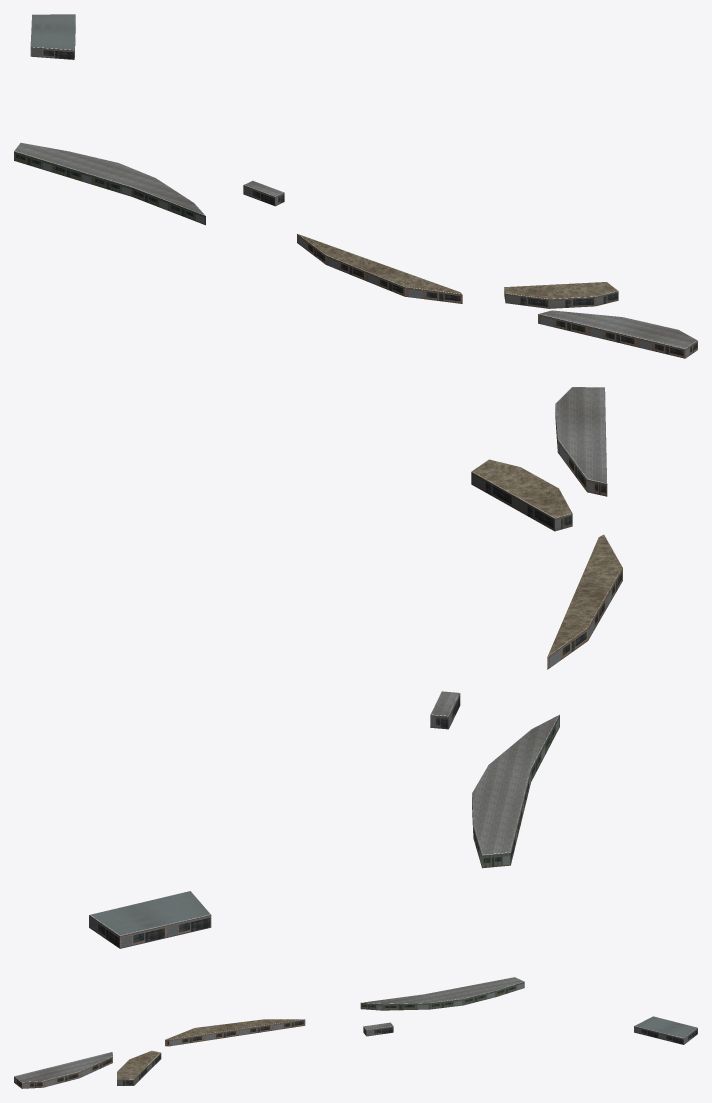
3 renders of one model, top to bottom at view 1: azimuth 30°, elevation 25°; view 2: azimuth 150°, elevation 25°; view 3: azimuth 270°, elevation 25°, orthographic. The views are drawn at different scales.
Parts seen in each view (by area): view 1: SlateRoof, BrickArcade, ConcreteRoof, Workshop, ZincRoof, RibbedFront, PanelArcade; view 2: SlateRoof, ConcreteRoof, ZincRoof, PanelArcade, BrickArcade, RibbedFront, Workshop; view 3: SlateRoof, BrickArcade, ConcreteRoof, Workshop, ZincRoof, PanelArcade, RibbedFront.
Part boxes in pixels (box(x1,y1,x2,y2)): SlateRoof: box(14, 143, 697, 349); BrickArcade: box(297, 234, 697, 358); ConcreteRoof: box(298, 234, 618, 299); Workshop: box(14, 151, 205, 225); ZincRoof: box(30, 14, 75, 50); RibbedFront: box(504, 287, 618, 308); PanelArcade: box(30, 25, 284, 206); SlateRoof: box(430, 387, 607, 855); ConcreteRoof: box(471, 459, 622, 656); ZincRoof: box(89, 891, 210, 936); PanelArcade: box(89, 693, 460, 948); BrickArcade: box(547, 407, 622, 669); RibbedFront: box(471, 472, 572, 531); Workshop: box(472, 715, 559, 868); SlateRoof: box(14, 977, 524, 1082); BrickArcade: box(14, 1019, 305, 1088); ConcreteRoof: box(117, 1019, 303, 1079); Workshop: box(360, 982, 524, 1010); ZincRoof: box(634, 1016, 697, 1038); PanelArcade: box(363, 1026, 697, 1044); RibbedFront: box(117, 1053, 161, 1085).
Bounding box in the file's own units: 107 × 3.12 × 294.
Materials: 7 (7 with a texture image).
